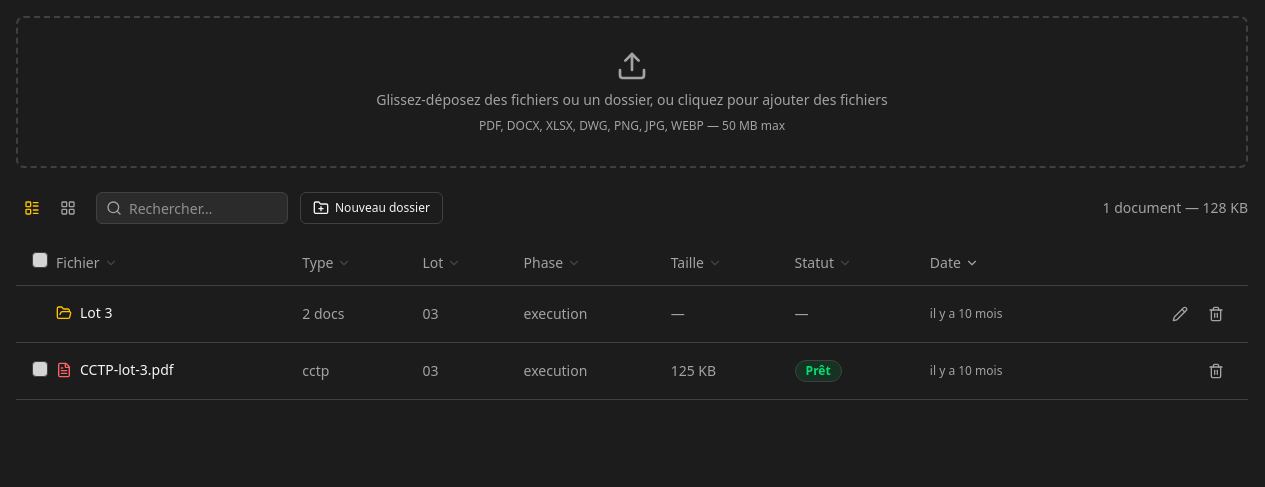
WorkspaceDocumentsTab — comportement principal › bascule entre DocumentList et DocumentGrid selon le clic sur les boutons de vue
The width and height of the screenshot is (1265, 487).
Check: the table is shown, box [16,240,1248,400]
Click the button named "Vue grille" at (68,208), box [52,192,84,224]
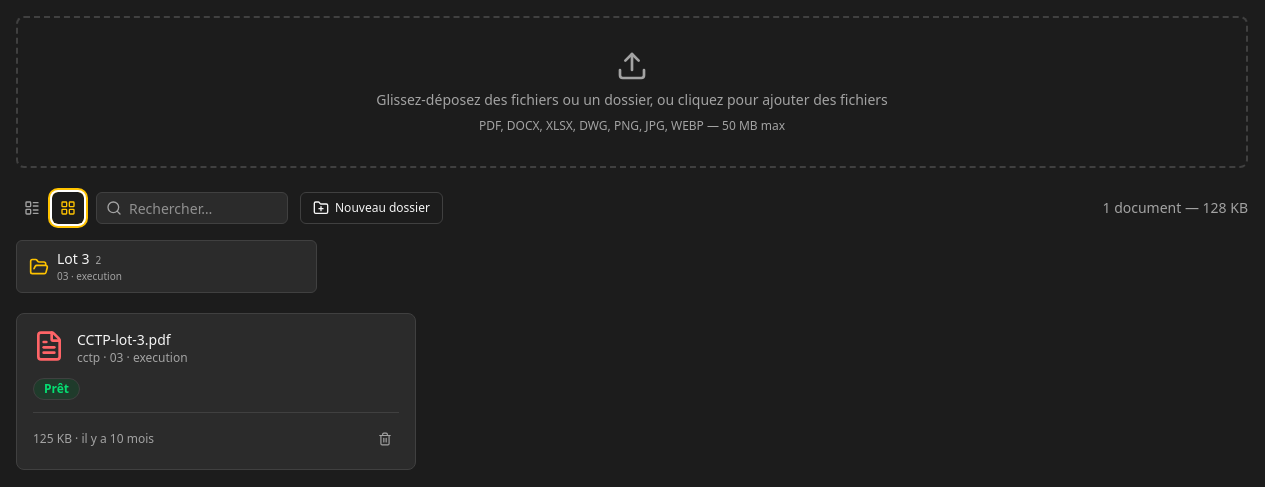
Check: the table is gone
